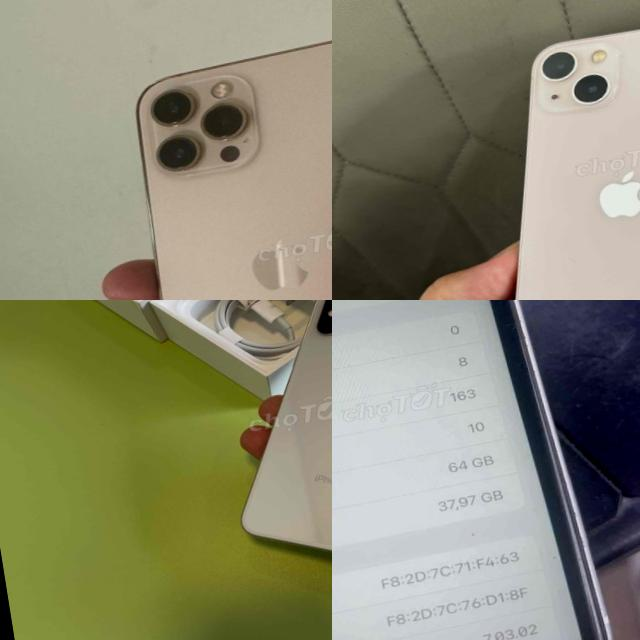gen_12_13: (115, 25, 332, 300), (460, 0, 640, 300)
gen_x_xs: (332, 300, 640, 640), (242, 300, 332, 551)
